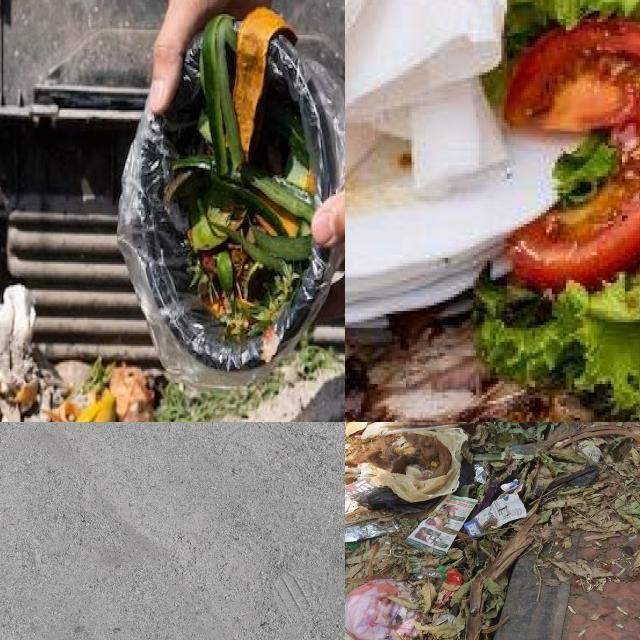Background: (0, 422, 345, 640)
Garbage: (345, 0, 640, 422), (345, 422, 640, 640), (0, 316, 345, 422)
Plastic_Bag: (345, 427, 489, 514), (345, 579, 420, 640), (415, 567, 442, 579)
Plastic_Straw: (408, 557, 425, 560), (380, 553, 392, 556), (394, 555, 402, 558)
Plastic_wraper: (345, 521, 398, 542), (442, 567, 464, 586), (438, 590, 455, 609), (439, 566, 448, 572), (442, 587, 445, 592)
contaminated_waste: (345, 133, 574, 322)
